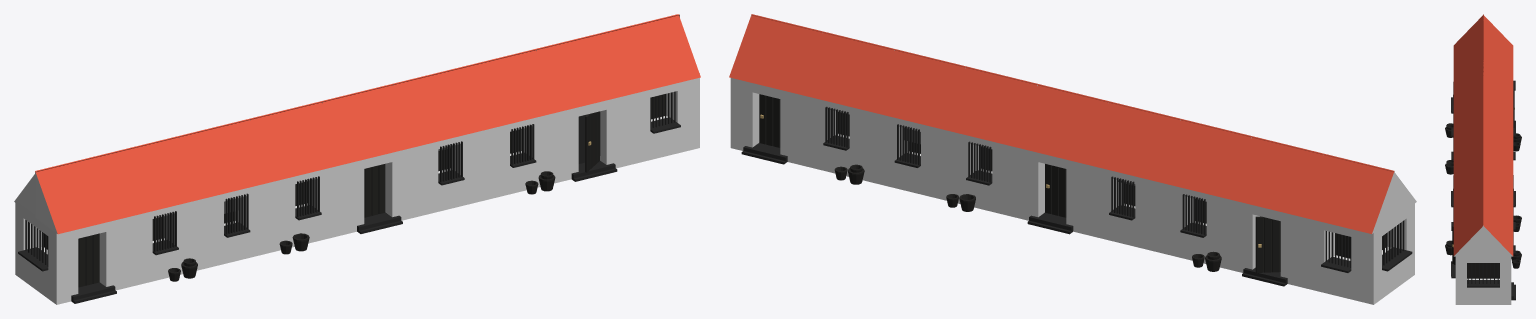
File: CasaProcedural_19.fbx
The picture shows the model from 3 angles, left to right: view 1: azimuth 30°, elevation 25°; view 2: azimuth 150°, elevation 25°; view 3: azimuth 270°, elevation 25°; orthographic projection. The views are drawn at different scales.
Visible parts, largest first — view 1: Procedural_Building; view 2: Procedural_Building; view 3: Procedural_Building.
Part boxes in pixels (x1,y1,x2,y2): Procedural_Building: (14, 14, 700, 304); Procedural_Building: (729, 14, 1416, 304); Procedural_Building: (1445, 14, 1521, 304).
Size of the model in its own units: 916 by 159 by 138.
